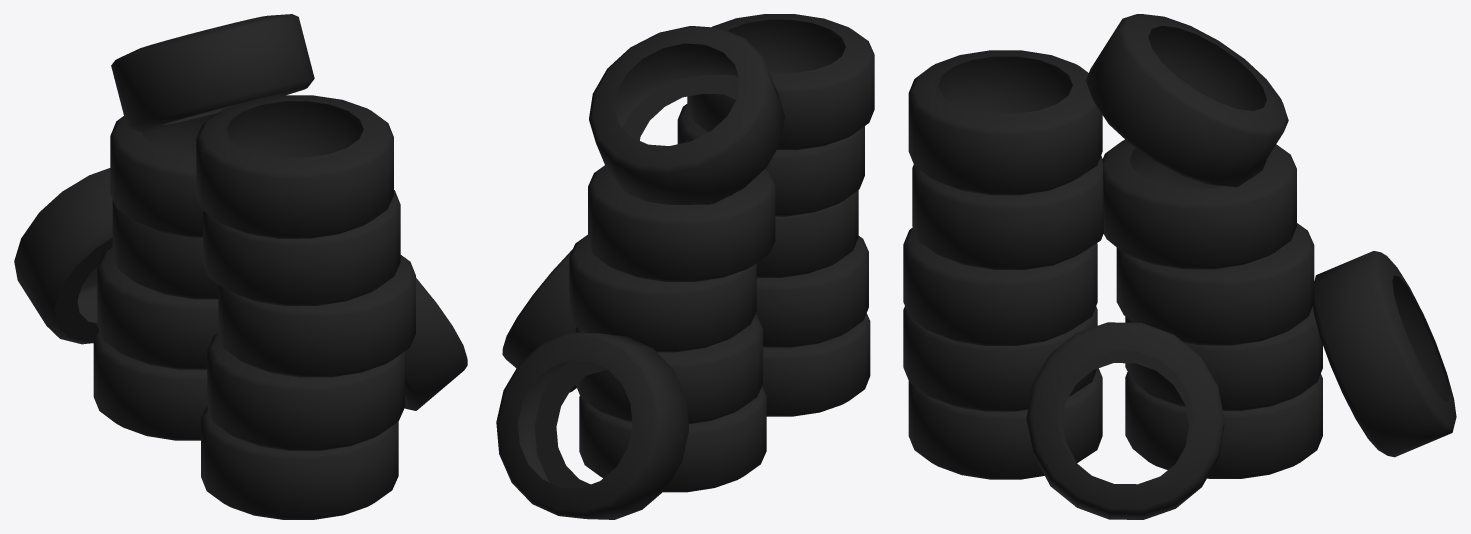
The model's file is SM_TireSet_01.gltf.
3 views of the same model, side by side, from view 1: azimuth 30°, elevation 25°; view 2: azimuth 150°, elevation 25°; view 3: azimuth 270°, elevation 25° (orthographic). The views are drawn at different scales.
Visible parts, largest first — view 1: SM_TireSet_01; view 2: SM_TireSet_01; view 3: SM_TireSet_01.
Boxes of the visible parts, x1,y1,x2,y2 form: SM_TireSet_01: [14, 14, 467, 519]; SM_TireSet_01: [496, 14, 874, 519]; SM_TireSet_01: [903, 14, 1456, 519].
Bounding box in the file's own units: 1.32 × 1.78 × 2.14.
1 material, 1 textured.
